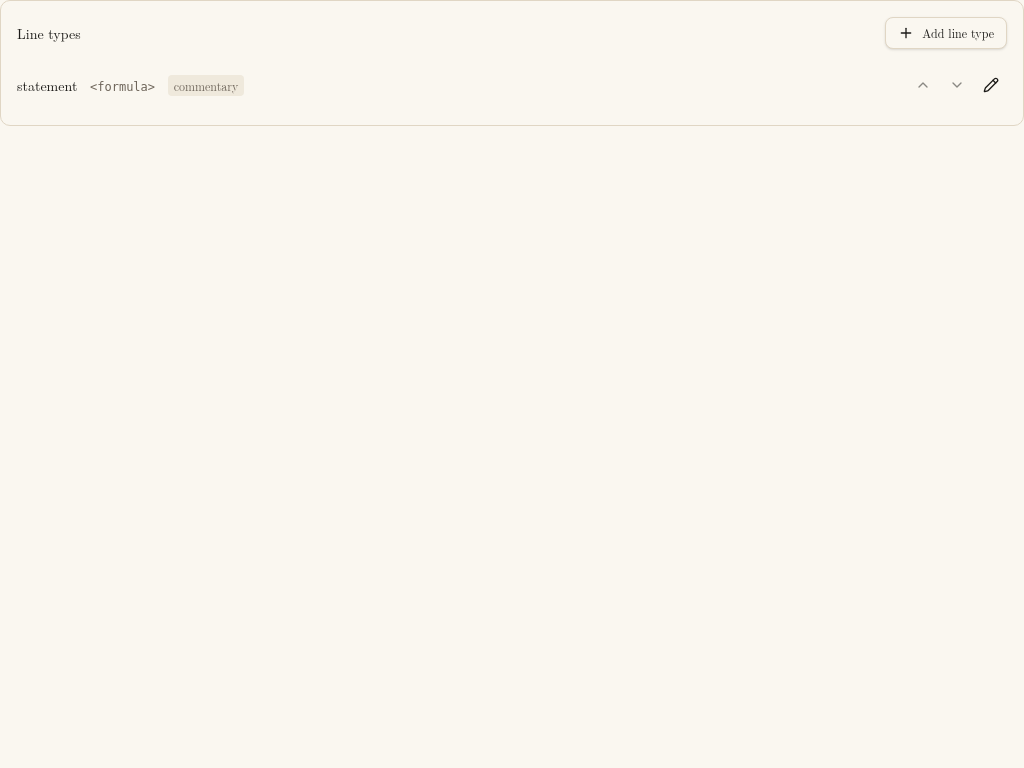
Test: LineTypesSection commentary › pre-fills the toggle and hides the fields a comment cannot carry
Click the 3rd button named "Edit ".
click(991, 85)  # box [975,69,1007,101]
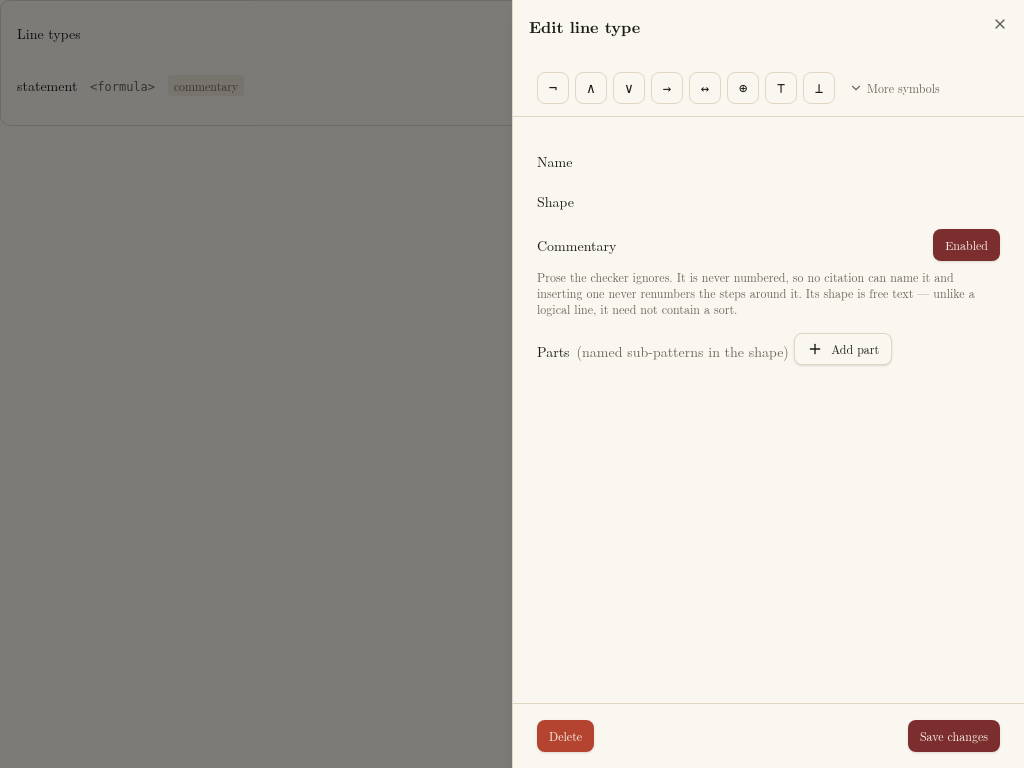
Expected: the button "Enabled" is shown, [933,229,1000,261]
